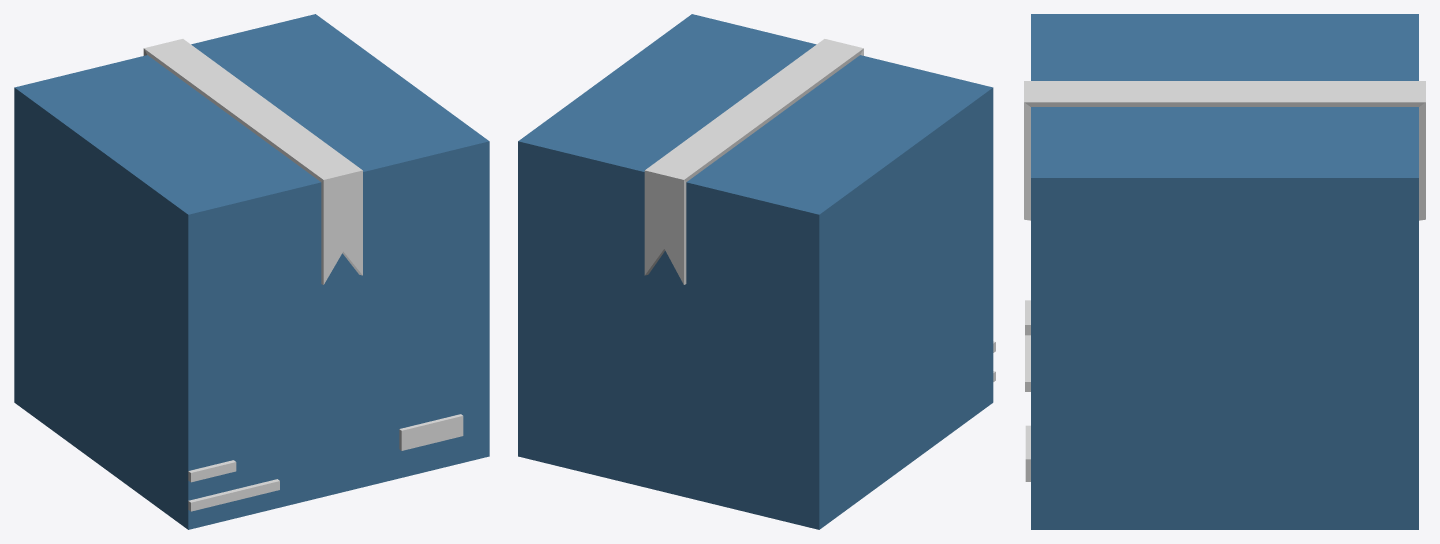
3 views of the same model, side by side, from view 1: azimuth 30°, elevation 25°; view 2: azimuth 150°, elevation 25°; view 3: azimuth 270°, elevation 25° (orthographic). The views are drawn at different scales.
Parts seen in each view (by area): view 1: Cube; view 2: Cube; view 3: Cube.
Boxes of the visible parts, x1,y1,x2,y2 form: Cube: [14, 14, 489, 529]; Cube: [518, 14, 995, 529]; Cube: [1024, 14, 1425, 529].
Bounding box in the file's own units: 2 × 2.03 × 2.07.
